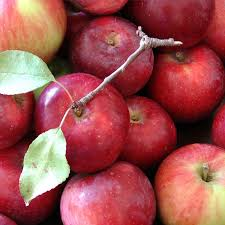apple: (59, 162, 156, 225)
